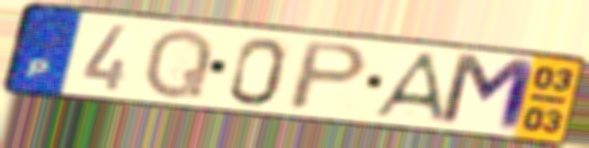0: (226, 35, 293, 108)
4: (79, 23, 129, 92)
A: (368, 49, 451, 125)
M: (434, 50, 541, 136)
P: (282, 39, 373, 113)
Q: (140, 26, 217, 101)
